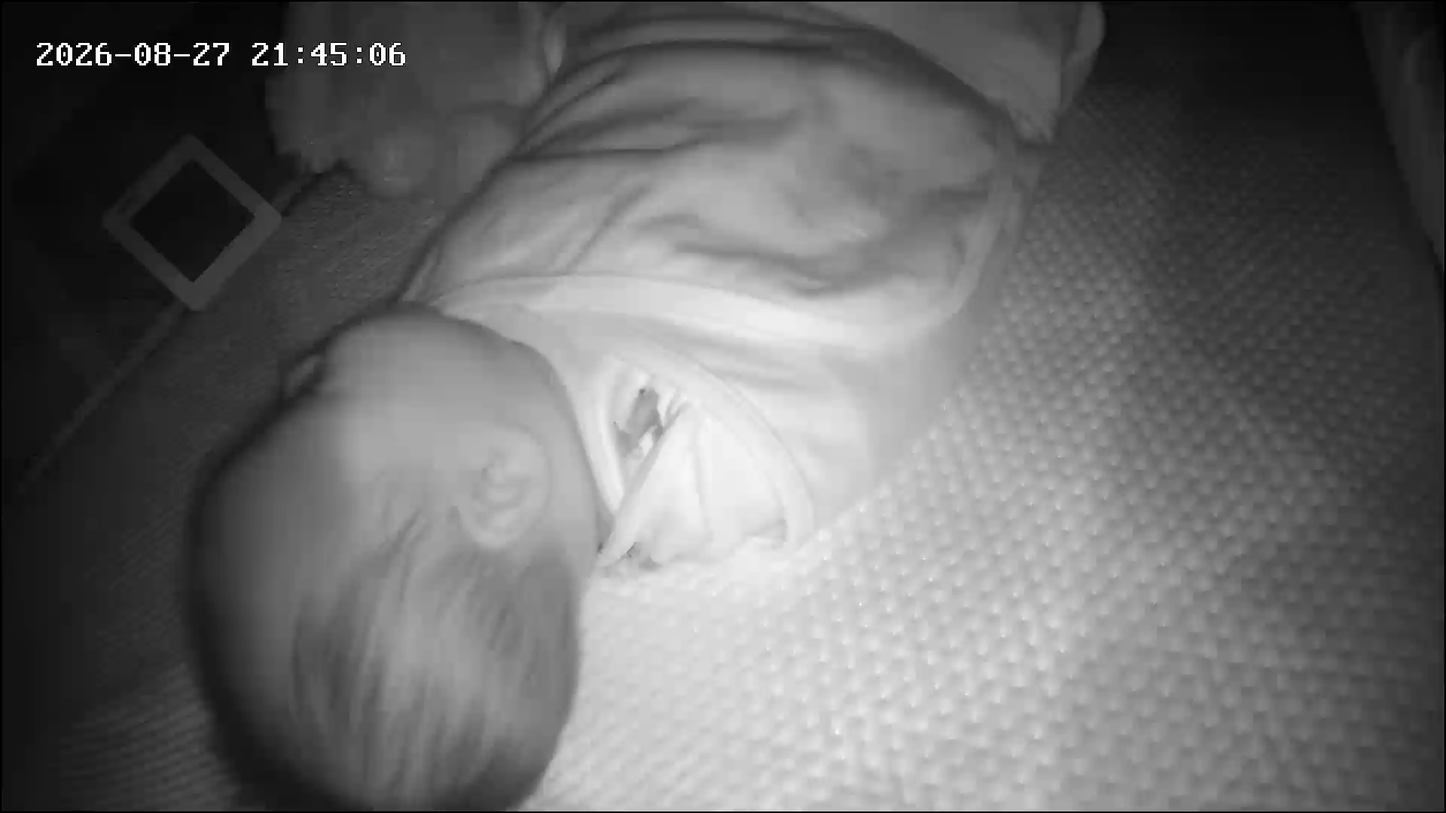baby: (151, 3, 1108, 811)
baby_face: (173, 301, 615, 810)
